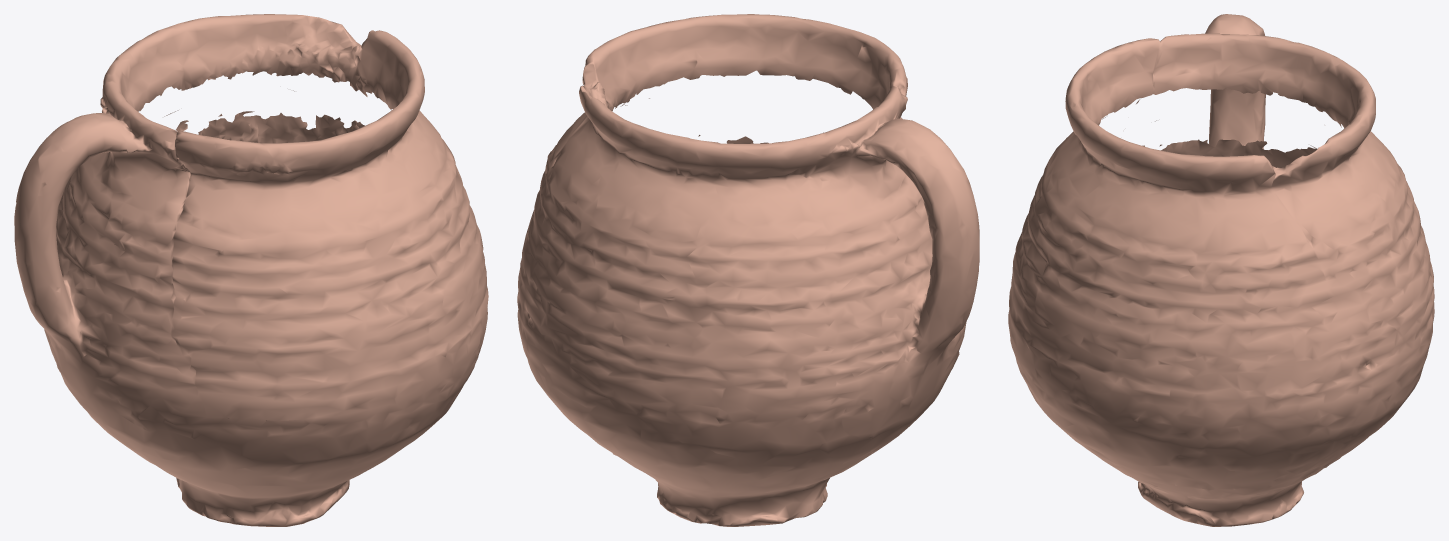
File: wc-roman-pottery-r3950.glb
3 renders of one model, left to right at view 1: azimuth 30°, elevation 25°; view 2: azimuth 150°, elevation 25°; view 3: azimuth 270°, elevation 25°, orthographic. The views are drawn at different scales.
Parts seen in each view (by area): view 1: wc-roman-pottery-r3950; view 2: wc-roman-pottery-r3950; view 3: wc-roman-pottery-r3950.
Part boxes in pixels (<box>): wc-roman-pottery-r3950: <box>14,14,488,526</box>; wc-roman-pottery-r3950: <box>517,14,979,526</box>; wc-roman-pottery-r3950: <box>1008,14,1434,526</box>.
Bounding box in the file's own units: 0.237 × 0.22 × 0.2111.
